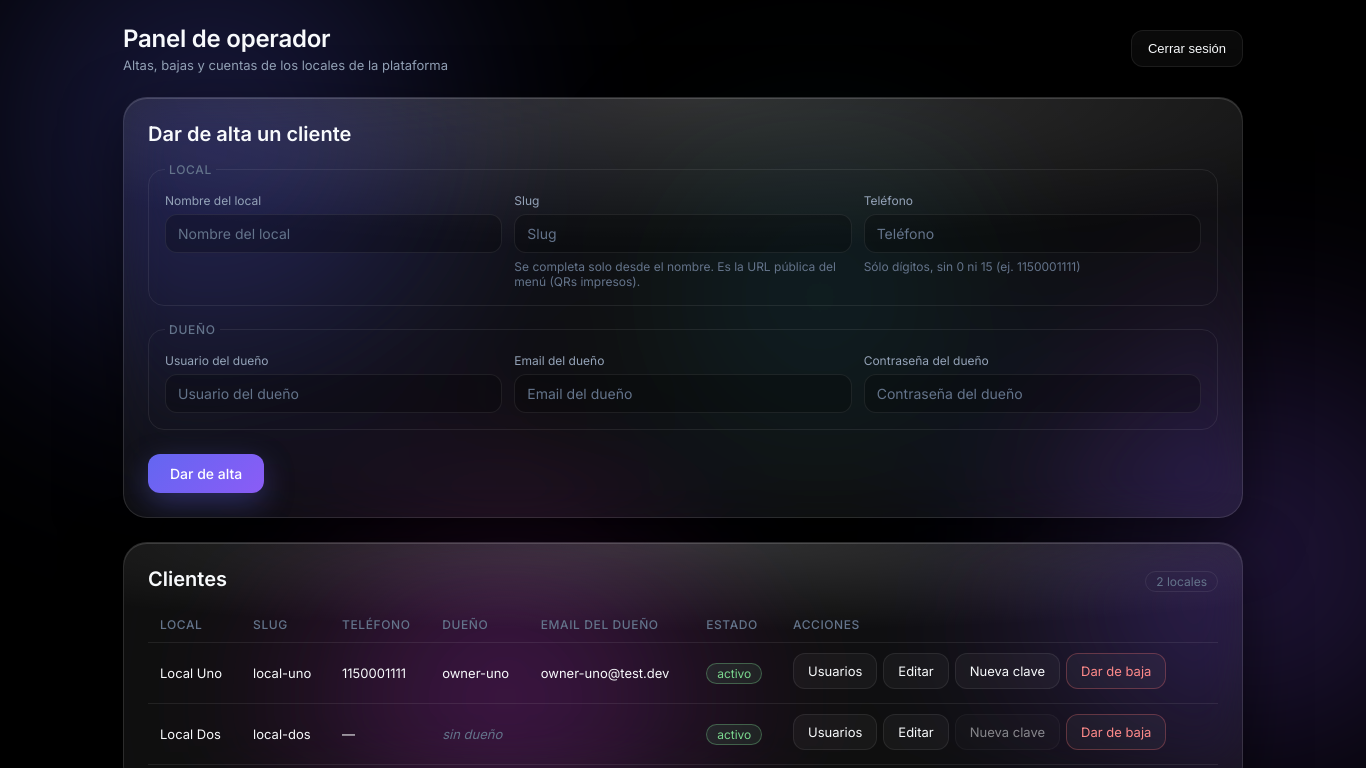
Test: platform operator view › registers a client through the alta form and refreshes the listing
Type "Local Nuevo" into the field with placeholder "Nombre del local" at x=334, y=234, box [165,214,502,253]
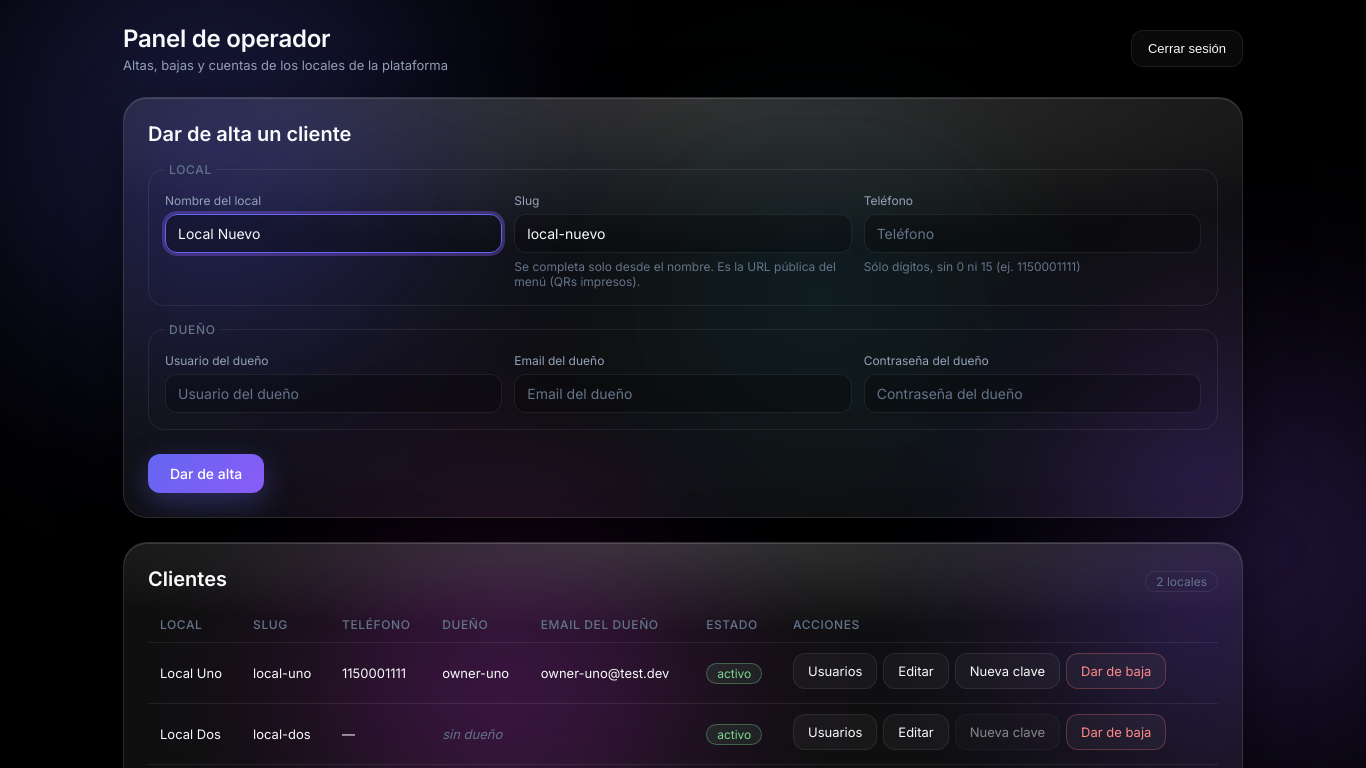
Type "1150002222" into the field with placeholder "Teléfono" at x=1032, y=234, box [864,214,1201,253]
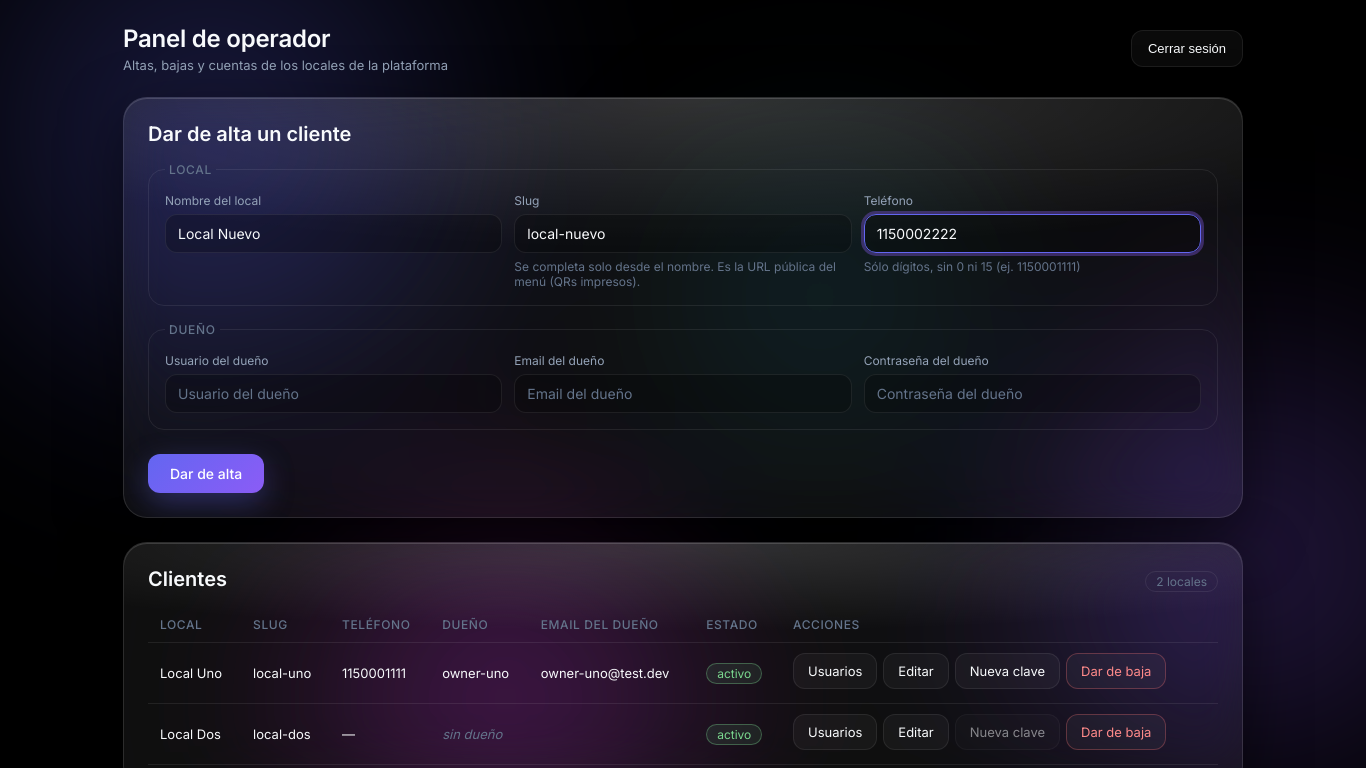
Type "owner-nuevo" into the field with placeholder "Usuario del dueño" at x=334, y=394, box [165,374,502,413]
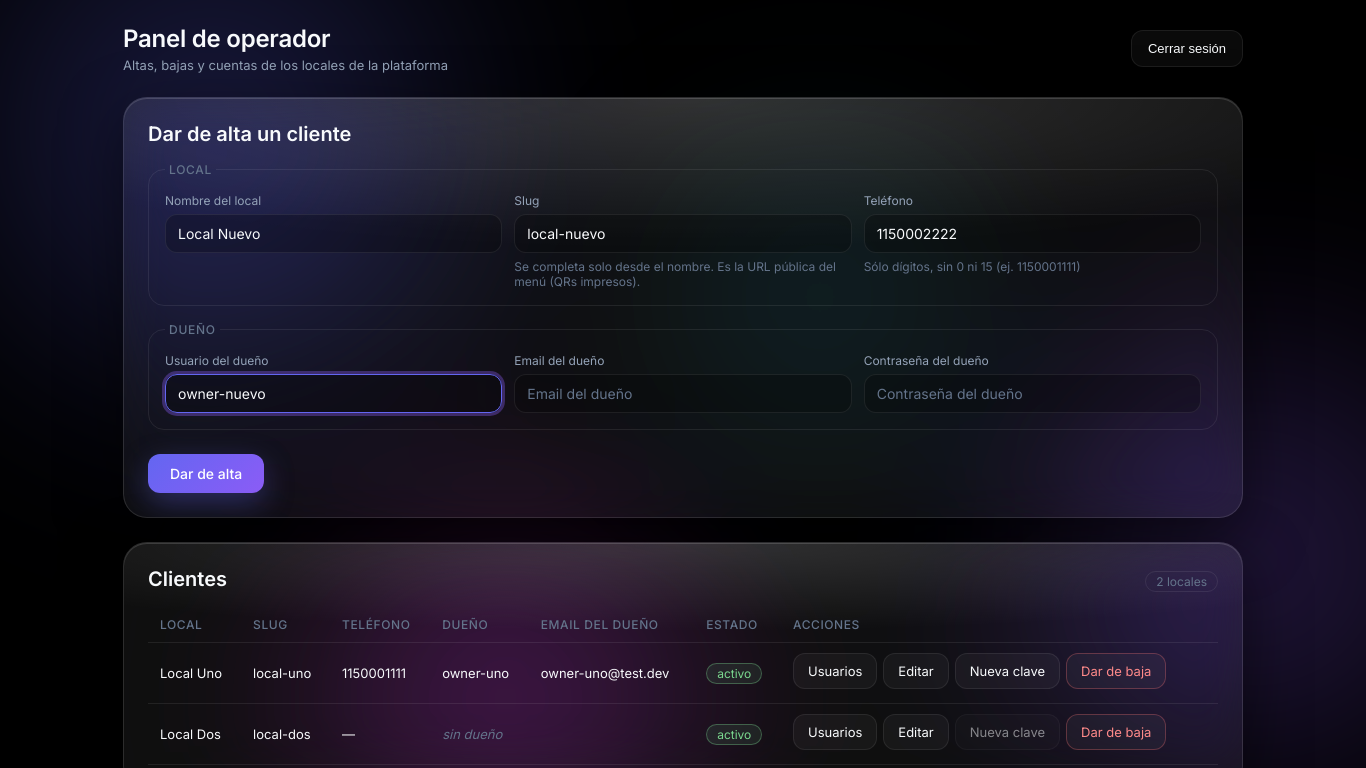
Type "owner-nuevo@test.dev" into the field with placeholder "Email del dueño" at x=683, y=394, box [514,374,852,413]
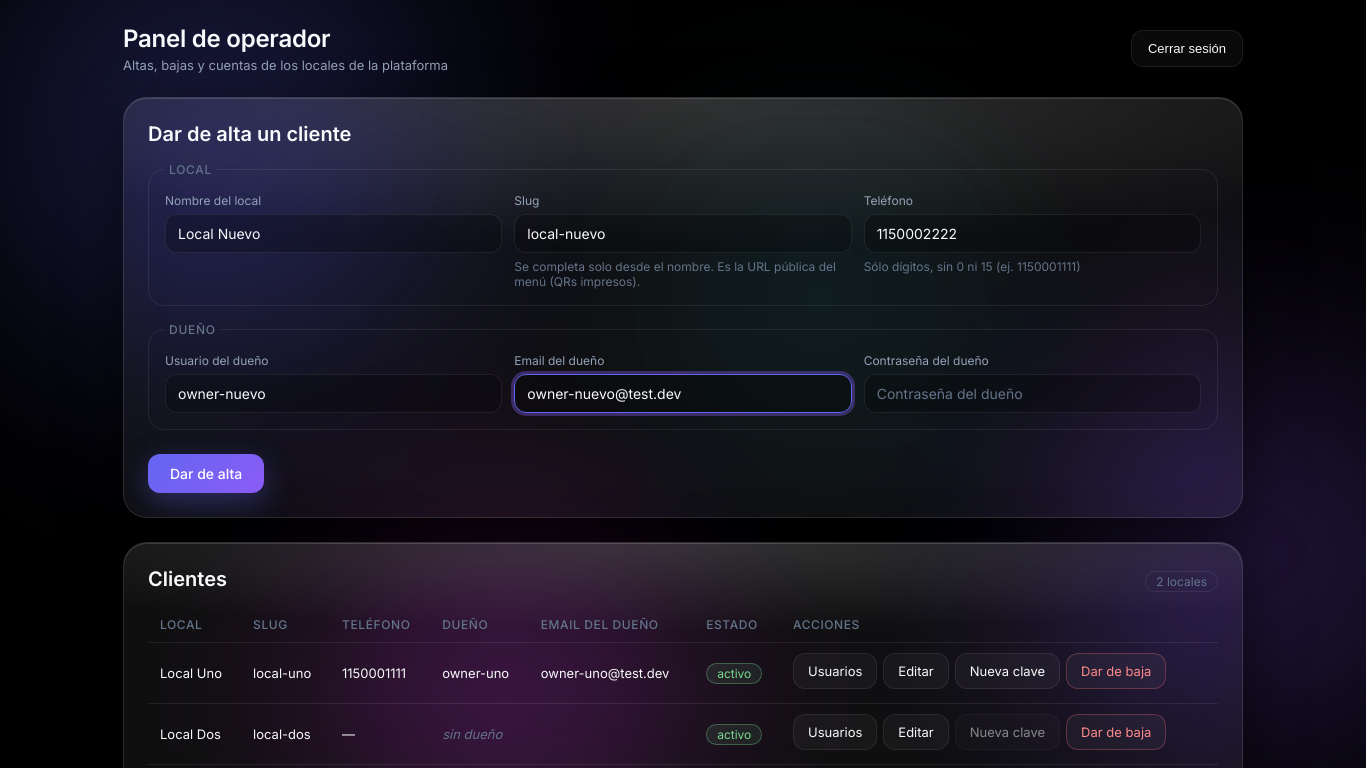
Type "client-pass-123" into the password field with placeholder "Contraseña del dueño" at x=1032, y=394, box [864,374,1201,413]
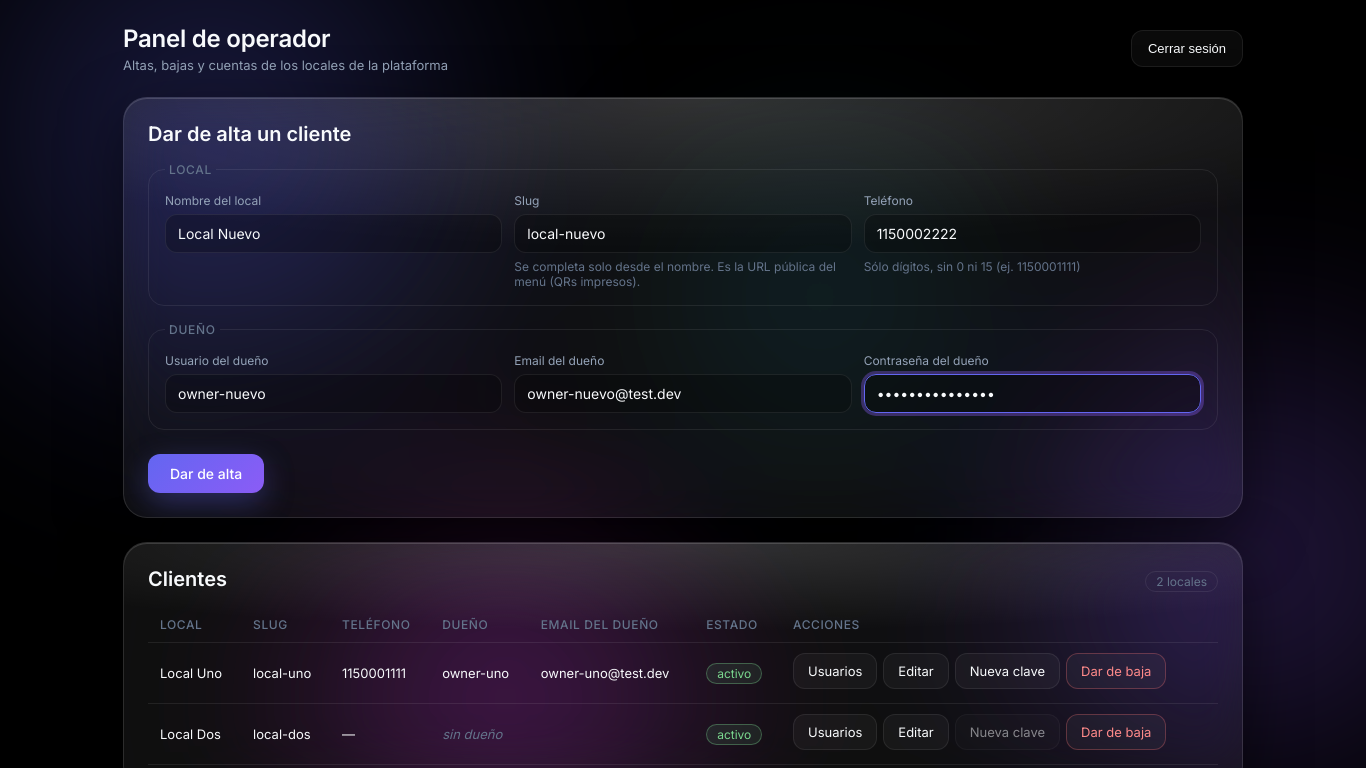
Click the button "Dar de alta" at x=206, y=474, box [148,454,264,493]
(page scrolled)
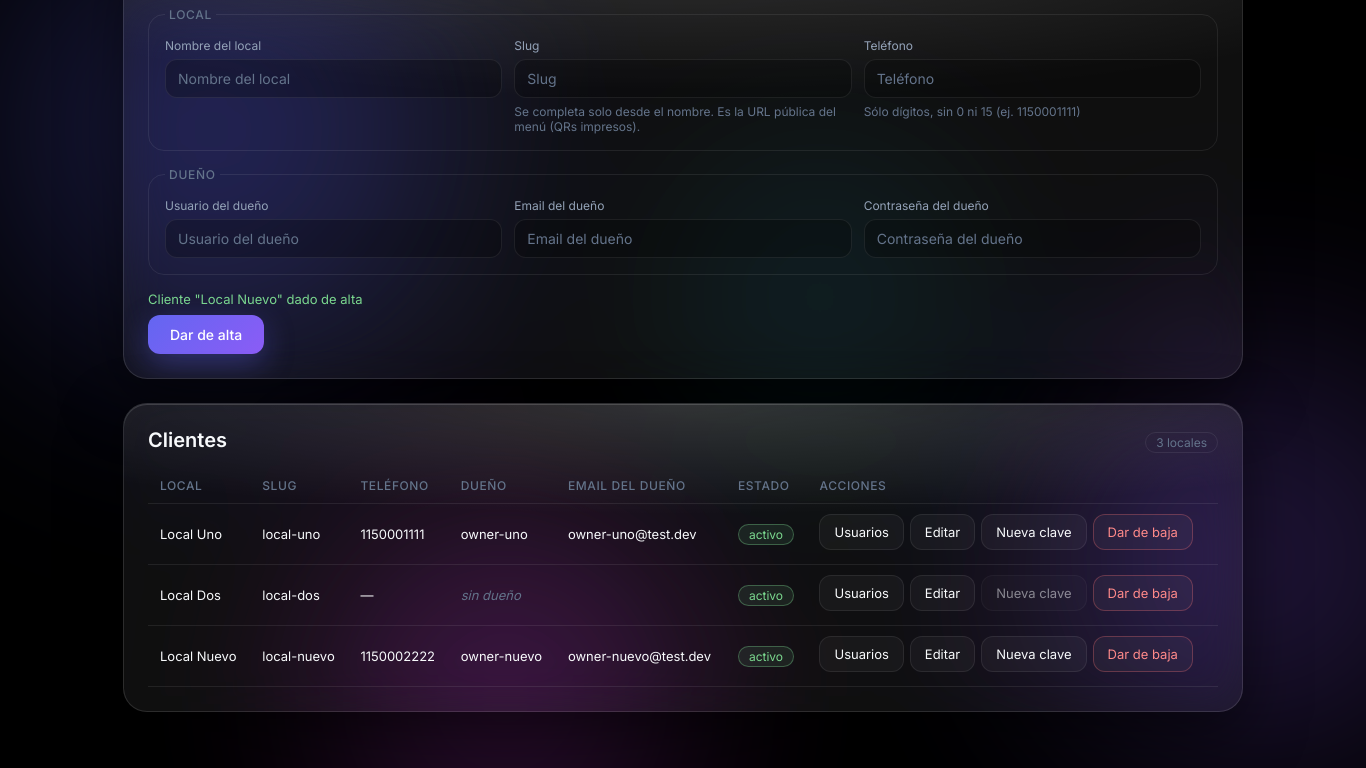
Result: the field with placeholder "Nombre del local" is empty at [165,59,502,98]
Result: the text "Local Nuevo" is shown at [148,626,250,686]
